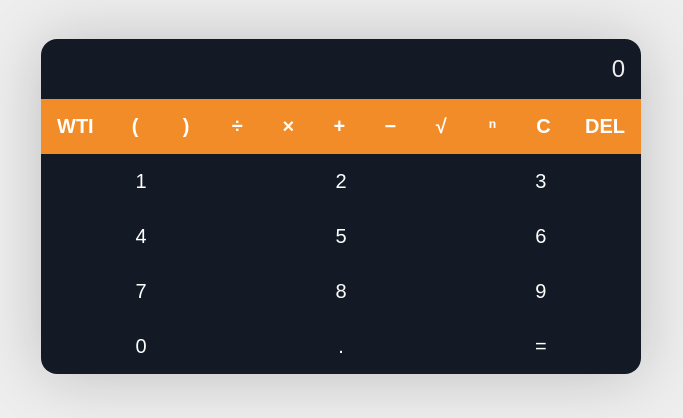
Scenario: 4 raise to power 2 is 16
The width and height of the screenshot is (683, 418).
Click the button "4".
click(141, 236)  # box [41,208,241,264]
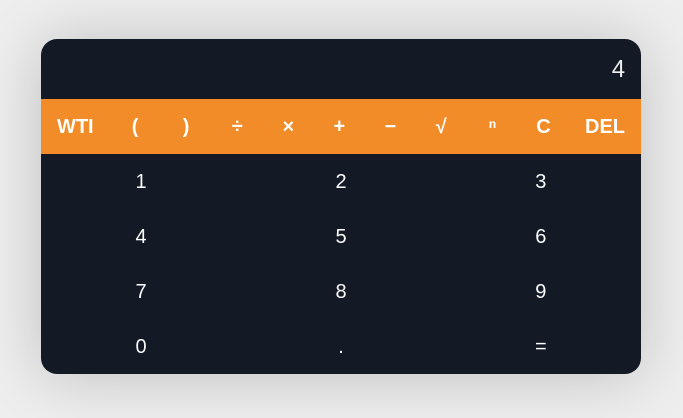
Click the button with class "exp".
click(492, 126)  # box [467,98,518,154]
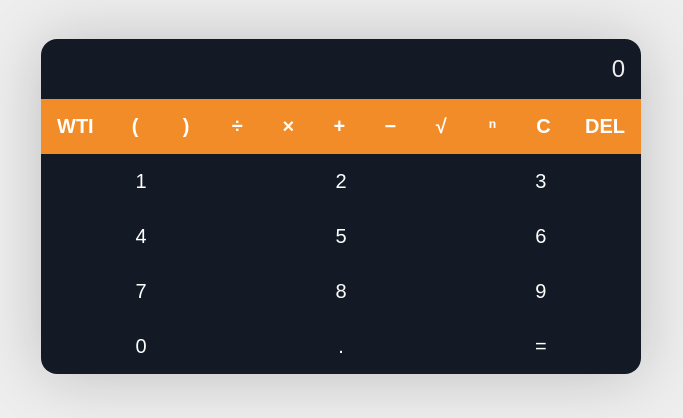
Click the button "2".
click(341, 181)  # box [241,154,441,208]
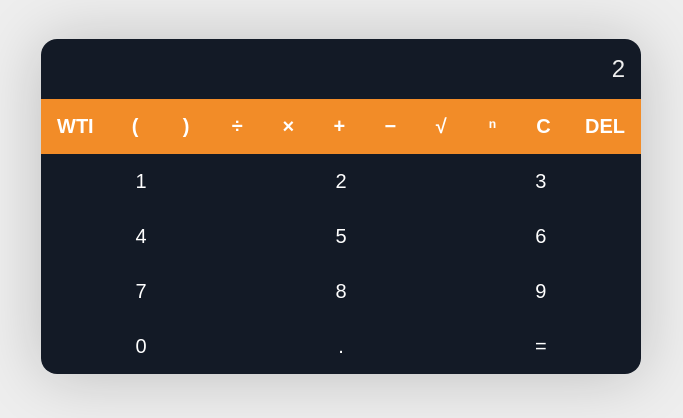
Click the button with class "equals".
click(541, 346)  # box [441,318,641,374]
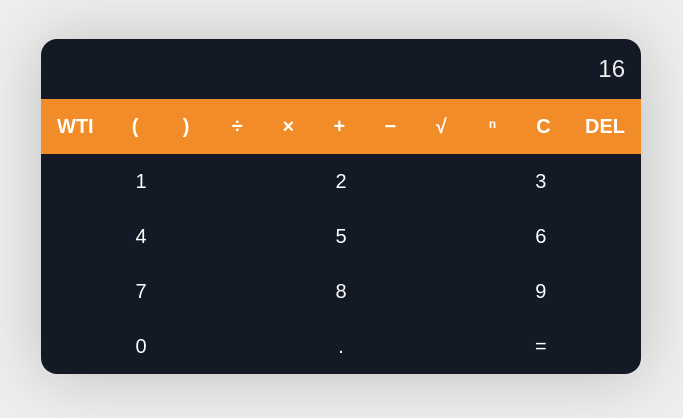
Now the text with class "display" reads "16", box [598,54,625,82]
